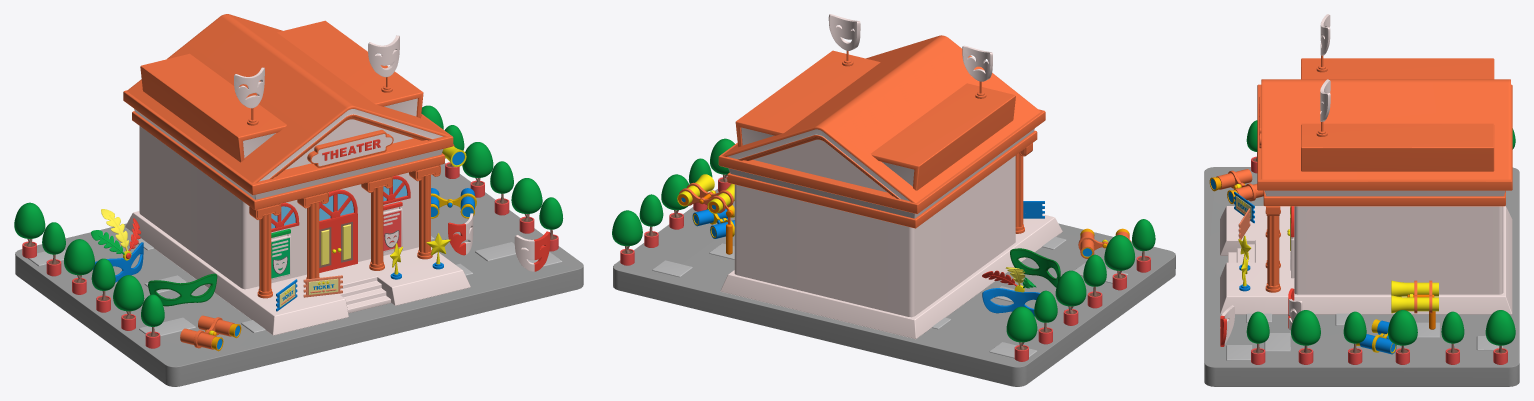
File: Public_Island_12.glb
3 renders of one model, left to right at view 1: azimuth 30°, elevation 25°; view 2: azimuth 150°, elevation 25°; view 3: azimuth 270°, elevation 25°, orthographic.
Parts seen in each view (by area): view 1: Public_12_Theater_1, Public_12_Base_1, Public_12_Theater_Sign_1, Public_12_Mask_Ttheatre_4, Public_12_Binoculars_1, Public_12_Mask_Ttheatre_3, Public_12_Tree_6, Public_12_Tree_7, Public_12_Tree_11, Public_12_Tree_9, Public_12_Tree_4, Public_12_Mask_Ttheatre_1 (+13 smaller); view 2: Public_12_Theater_1, Public_12_Base_1, Public_12_Binoculars_2, Public_12_Mask_Ttheatre_4, Public_12_Tree_9, Public_12_Tree_7, Public_12_Tree_11, Public_12_Tree_2, Public_12_Decor_Mask_Ttheatre_1, Public_12_Mask_Ttheatre_3, Public_12_Decor_Mask_Ttheatre_2, Public_12_Tree_4 (+8 smaller); view 3: Public_12_Theater_1, Public_12_Base_1, Public_12_Binoculars_2, Public_12_Tree_6, Public_12_Tree_2, Public_12_Tree_4, Public_12_Binoculars_1, Public_12_Tree_1, Public_12_Tree_3, Public_12_Tree_5, Public_12_Binoculars_3, Public_12_Decor_Mask_Ttheatre_1 (+5 smaller).
Boxes of the visible parts, <box> form: Public_12_Theater_1: <box>123,14,470,335</box>; Public_12_Base_1: <box>15,163,583,386</box>; Public_12_Theater_Sign_1: <box>307,129,393,167</box>; Public_12_Mask_Ttheatre_4: <box>91,209,143,282</box>; Public_12_Binoculars_1: <box>180,315,241,351</box>; Public_12_Mask_Ttheatre_3: <box>148,273,217,306</box>; Public_12_Tree_6: <box>511,178,542,233</box>; Public_12_Tree_7: <box>14,202,45,258</box>; Public_12_Tree_11: <box>113,275,144,330</box>; Public_12_Tree_9: <box>64,239,94,294</box>; Public_12_Tree_4: <box>462,142,493,197</box>; Public_12_Mask_Ttheatre_1: <box>514,231,550,271</box>; Public_12_Theater_1: <box>718,35,1062,339</box>; Public_12_Base_1: <box>613,189,1175,386</box>; Public_12_Binoculars_2: <box>677,174,734,254</box>; Public_12_Mask_Ttheatre_4: <box>982,267,1040,316</box>; Public_12_Tree_9: <box>1055,270,1086,325</box>; Public_12_Tree_7: <box>1006,306,1037,361</box>; Public_12_Tree_11: <box>1104,235,1134,290</box>; Public_12_Tree_2: <box>612,210,642,265</box>; Public_12_Decor_Mask_Ttheatre_1: <box>828,14,860,66</box>; Public_12_Mask_Ttheatre_3: <box>1010,248,1060,287</box>; Public_12_Decor_Mask_Ttheatre_2: <box>962,45,992,98</box>; Public_12_Tree_4: <box>661,174,688,229</box>; Public_12_Theater_1: <box>1220,58,1512,314</box>; Public_12_Base_1: <box>1204,167,1519,386</box>; Public_12_Binoculars_2: <box>1391,280,1438,329</box>; Public_12_Tree_6: <box>1291,310,1320,364</box>; Public_12_Tree_2: <box>1485,310,1515,364</box>; Public_12_Tree_4: <box>1388,310,1417,364</box>; Public_12_Binoculars_1: <box>1209,169,1263,203</box>; Public_12_Tree_1: <box>1441,311,1464,364</box>; Public_12_Tree_3: <box>1343,311,1366,364</box>; Public_12_Tree_5: <box>1246,311,1269,364</box>; Public_12_Binoculars_3: <box>1356,319,1396,354</box>; Public_12_Decor_Mask_Ttheatre_1: <box>1316,79,1330,136</box>.
Size of the model in its own units: 26.71 by 14.25 by 17.44.
Materials: 30 (30 with a texture image).
